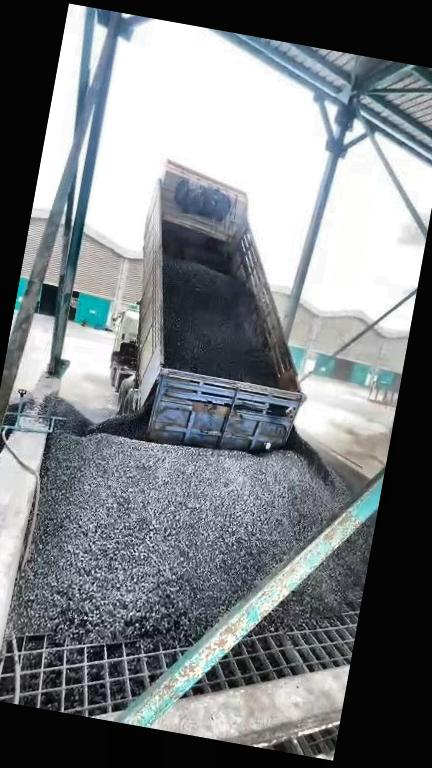gravel: (9, 396, 350, 644), (162, 256, 273, 384), (258, 515, 376, 631), (83, 394, 118, 425), (3, 395, 18, 438)
sand: (338, 431, 391, 478)
